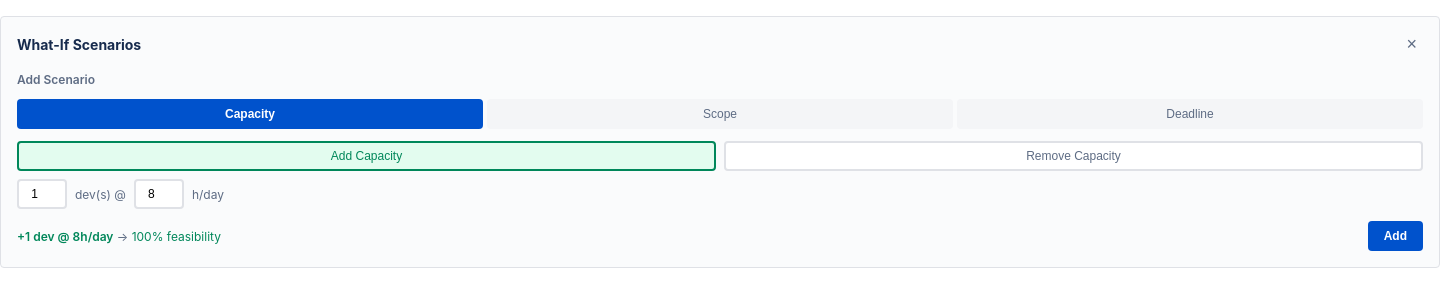
WhatIfPanel › deadline scenarios › shows date picker when deadline tab clicked
The image size is (1440, 285).
Click the button "Deadline".
click(1190, 114)  # box [957, 99, 1423, 129]
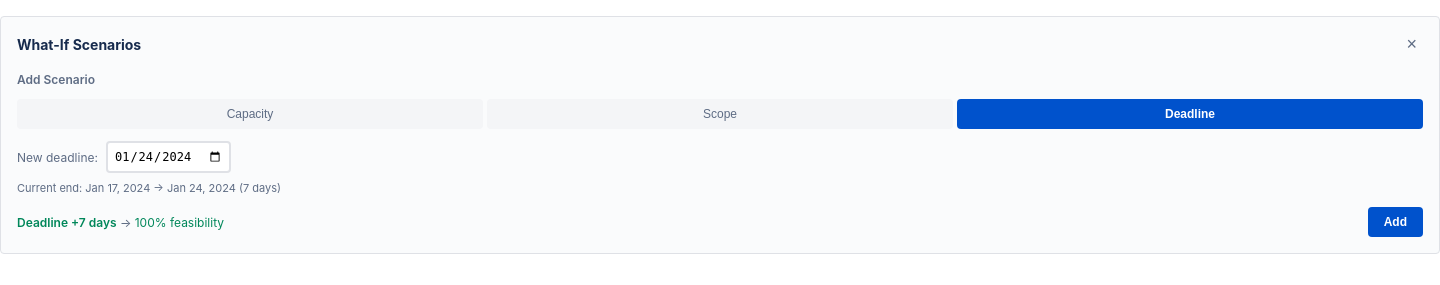
Expected: the text "New deadline:" is shown, [17, 150, 98, 164]
